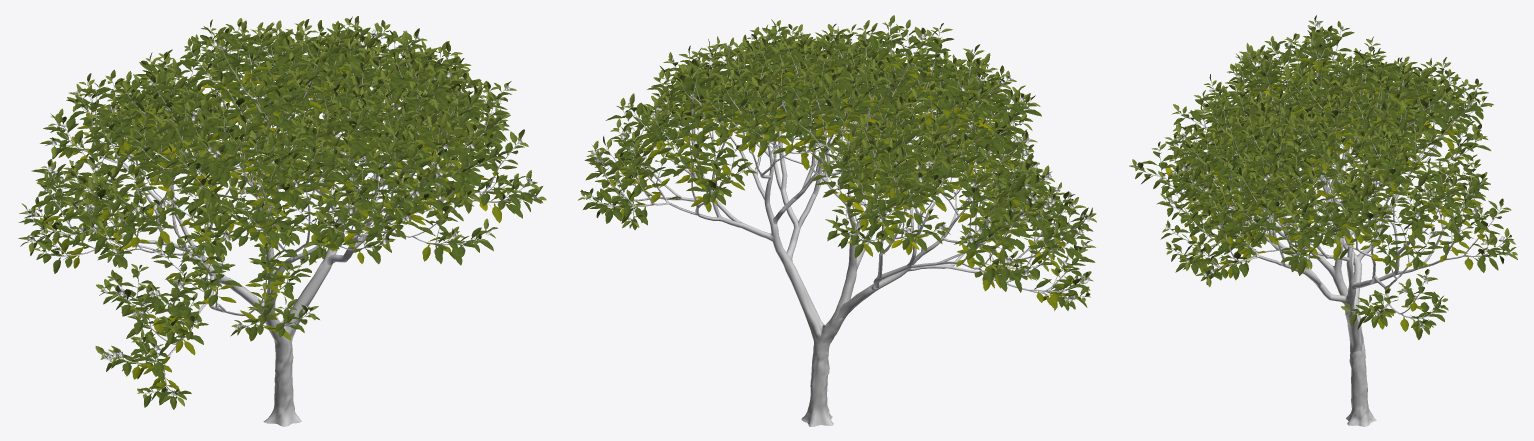
The model's file is citrus_orange_3m_green.obj.
The picture shows the model from 3 angles, left to right: view 1: azimuth 30°, elevation 25°; view 2: azimuth 150°, elevation 25°; view 3: azimuth 270°, elevation 25°; orthographic projection. The views are drawn at different scales.
Visible parts, largest first — view 1: Citrus_aurant_leaf_01, Citrus_aurant_leaf_04, Citrus_aurantium_bark, Citrus_aurant_leaf_01_y1, Citrus_aurant_leaf_02, Citrus_aurantium_twig, Citrus_aurant_leaf_03, Citrus_simple_flower, Citrus_aurant_leaf_01_y2; view 2: Citrus_aurant_leaf_01, Citrus_aurant_leaf_04, Citrus_aurantium_bark, Citrus_aurant_leaf_01_y1, Citrus_aurantium_twig, Citrus_aurant_leaf_02, Citrus_aurant_leaf_03, Citrus_simple_flower, Citrus_aurant_leaf_01_y2; view 3: Citrus_aurant_leaf_01, Citrus_aurant_leaf_04, Citrus_aurantium_bark, Citrus_aurant_leaf_01_y1, Citrus_aurantium_twig, Citrus_aurant_leaf_02, Citrus_aurant_leaf_03, Citrus_simple_flower, Citrus_aurant_leaf_01_y2.
Part boxes in pixels (x1,y1,x2,y2): Citrus_aurant_leaf_01: [18, 27, 537, 409]; Citrus_aurant_leaf_04: [19, 16, 546, 406]; Citrus_aurantium_bark: [50, 64, 506, 426]; Citrus_aurant_leaf_01_y1: [40, 57, 509, 391]; Citrus_aurant_leaf_02: [18, 22, 541, 403]; Citrus_aurantium_twig: [28, 24, 537, 396]; Citrus_aurant_leaf_03: [37, 23, 525, 392]; Citrus_simple_flower: [24, 19, 536, 396]; Citrus_aurant_leaf_01_y2: [80, 70, 487, 327]; Citrus_aurant_leaf_01: [583, 27, 1095, 310]; Citrus_aurant_leaf_04: [578, 15, 1096, 304]; Citrus_aurantium_bark: [606, 54, 1066, 426]; Citrus_aurant_leaf_01_y1: [595, 55, 1074, 309]; Citrus_aurantium_twig: [585, 25, 1087, 298]; Citrus_aurant_leaf_02: [581, 26, 1091, 297]; Citrus_aurant_leaf_03: [583, 26, 1096, 296]; Citrus_simple_flower: [582, 33, 1089, 302]; Citrus_aurant_leaf_01_y2: [646, 71, 1041, 263]; Citrus_aurant_leaf_01: [1135, 27, 1513, 339]; Citrus_aurant_leaf_04: [1129, 15, 1517, 331]; Citrus_aurantium_bark: [1165, 53, 1486, 426]; Citrus_aurant_leaf_01_y1: [1161, 58, 1492, 331]; Citrus_aurantium_twig: [1136, 24, 1510, 322]; Citrus_aurant_leaf_02: [1137, 28, 1503, 323]; Citrus_aurant_leaf_03: [1166, 25, 1517, 322]; Citrus_simple_flower: [1133, 20, 1509, 329]; Citrus_aurant_leaf_01_y2: [1165, 74, 1464, 307].
Size of what is drawn, in the model's own units: 3.74 by 3.16 by 3.02.
